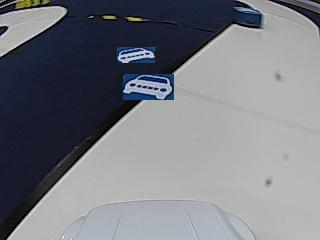prop: (234, 6, 262, 28)
